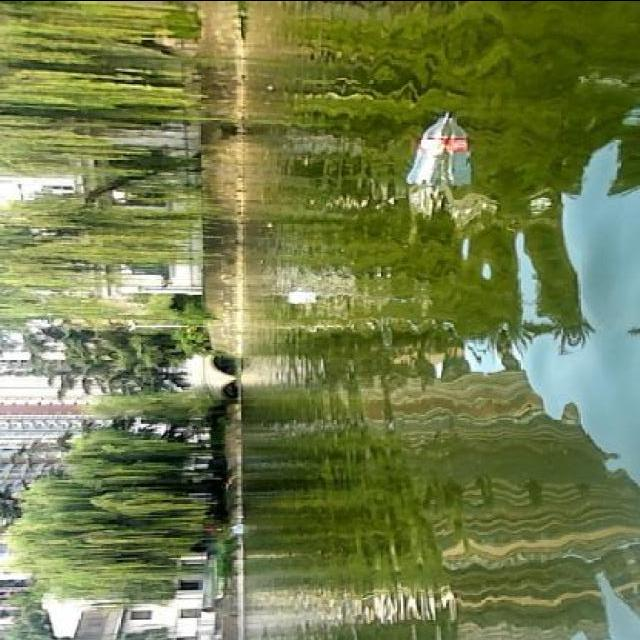Bottle: (402, 104, 466, 195)
